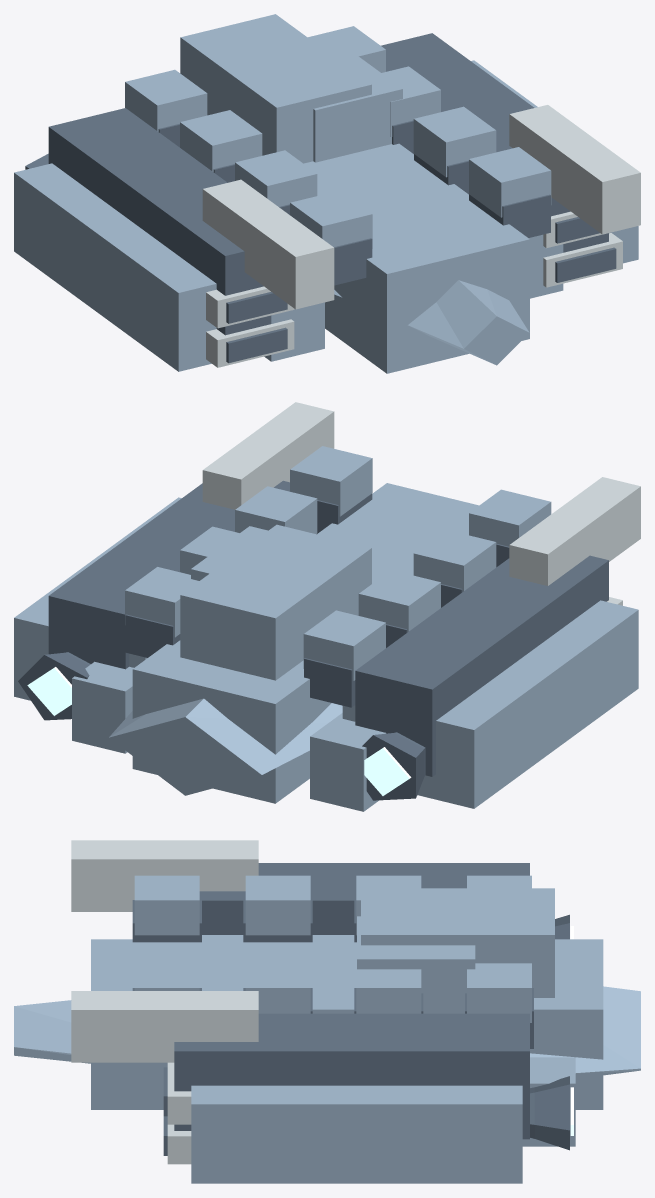
The picture shows the model from 3 angles, top to bottom: view 1: azimuth 30°, elevation 25°; view 2: azimuth 150°, elevation 25°; view 3: azimuth 270°, elevation 25°; orthographic projection.
Size of the model in its own units: 15.45 by 6 by 18.12.
